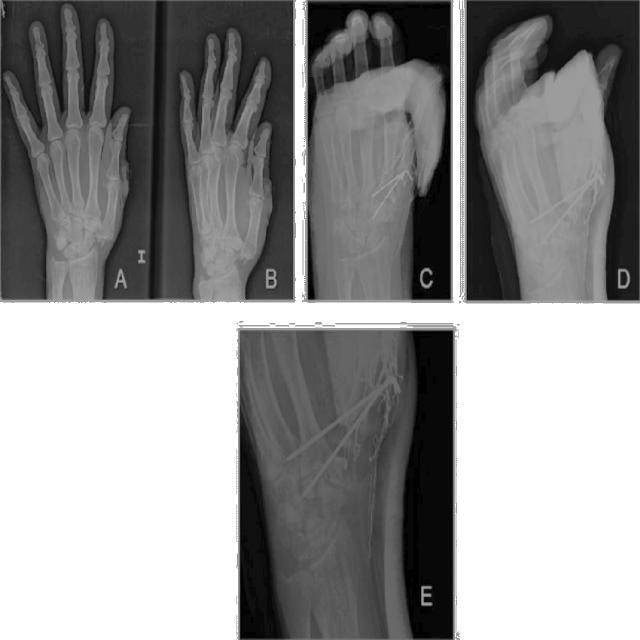Fracture Dislocation: (86, 219, 122, 256), (236, 240, 258, 275)
